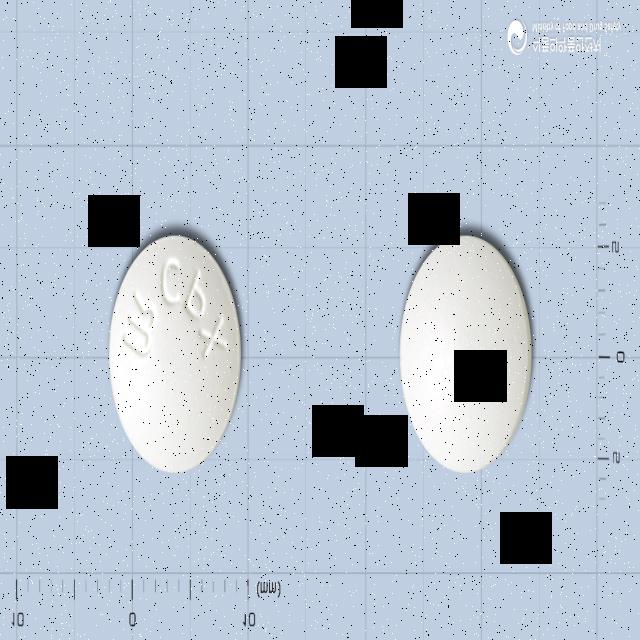Ciprofloxacin Tab- Mirae: (398, 232, 535, 482), (108, 230, 244, 478)
